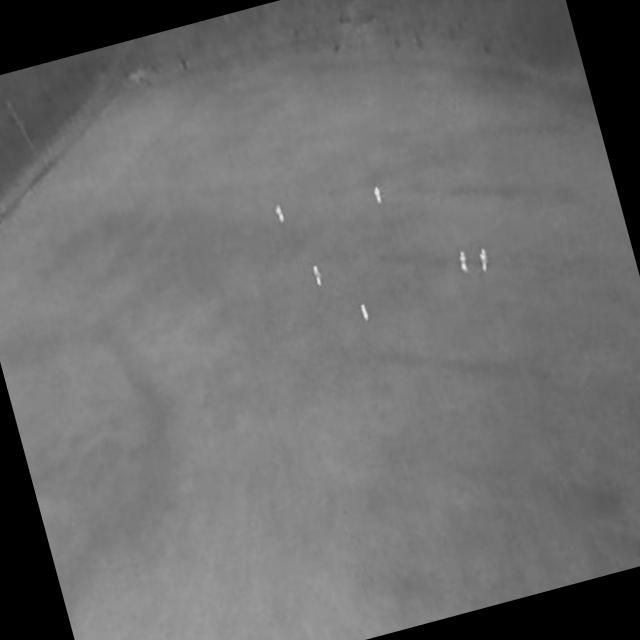person: (476, 248, 492, 275), (456, 250, 471, 277), (311, 265, 325, 290), (273, 204, 286, 225), (372, 186, 384, 207), (360, 302, 371, 324)
